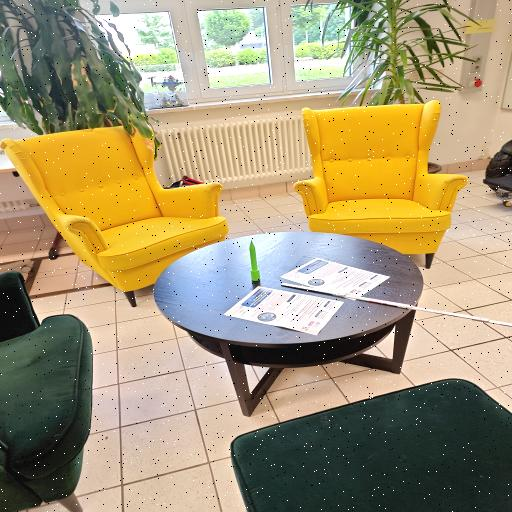Probe-Detection: (249, 240, 260, 280)
